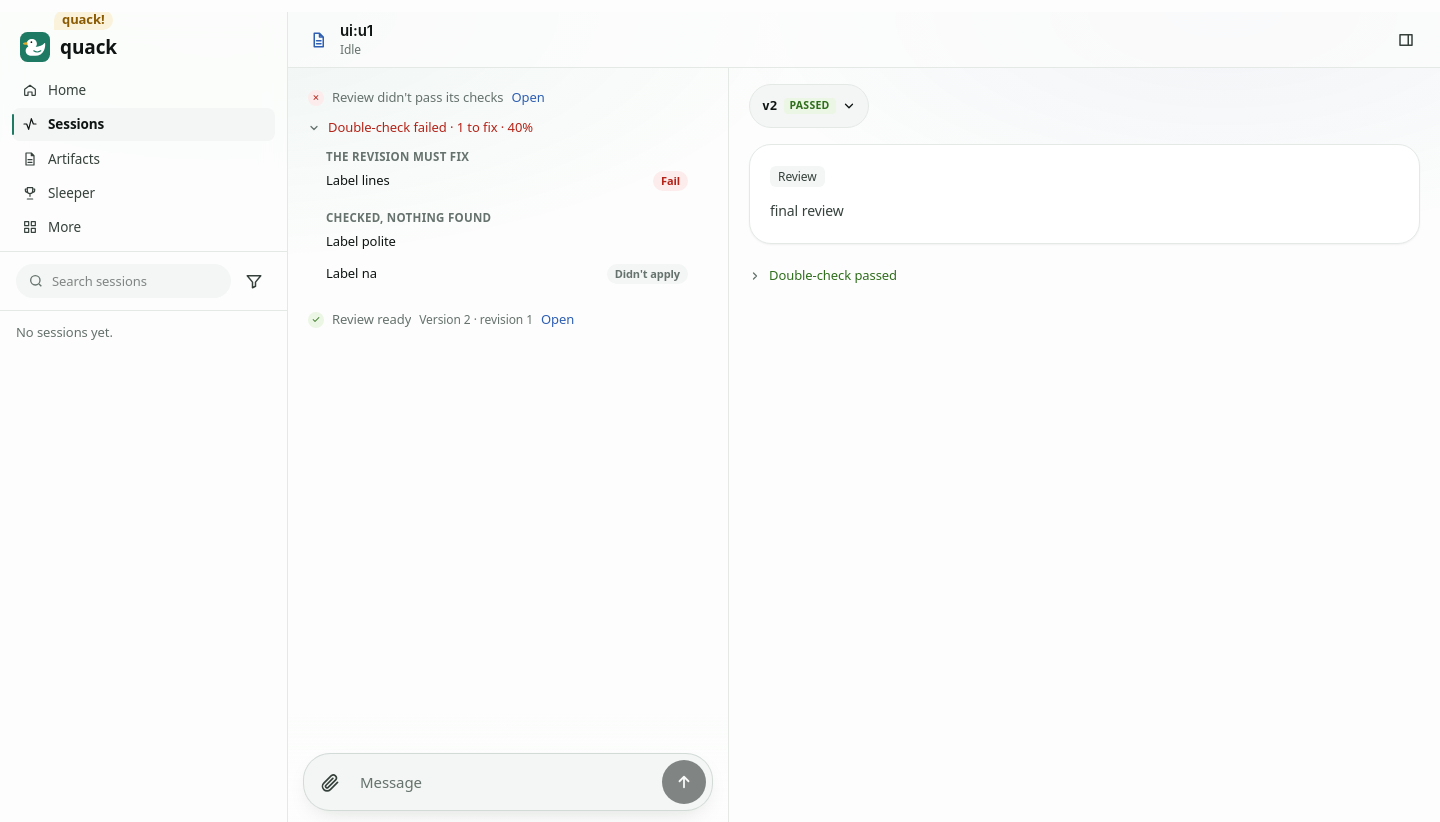
Scenario: lists artifacts with their check status and failing criteria
Check: the element that starts with "Review didn't pass its checks" is shown, box left=332, top=88, right=504, bottom=106
Check: the element showing "✓ Review ready Version 2 · revision 1 Open" is shown, box left=308, top=310, right=585, bottom=330
Click the button with aria-label "Open Review": click(534, 98) left=512, top=88, right=556, bottom=108
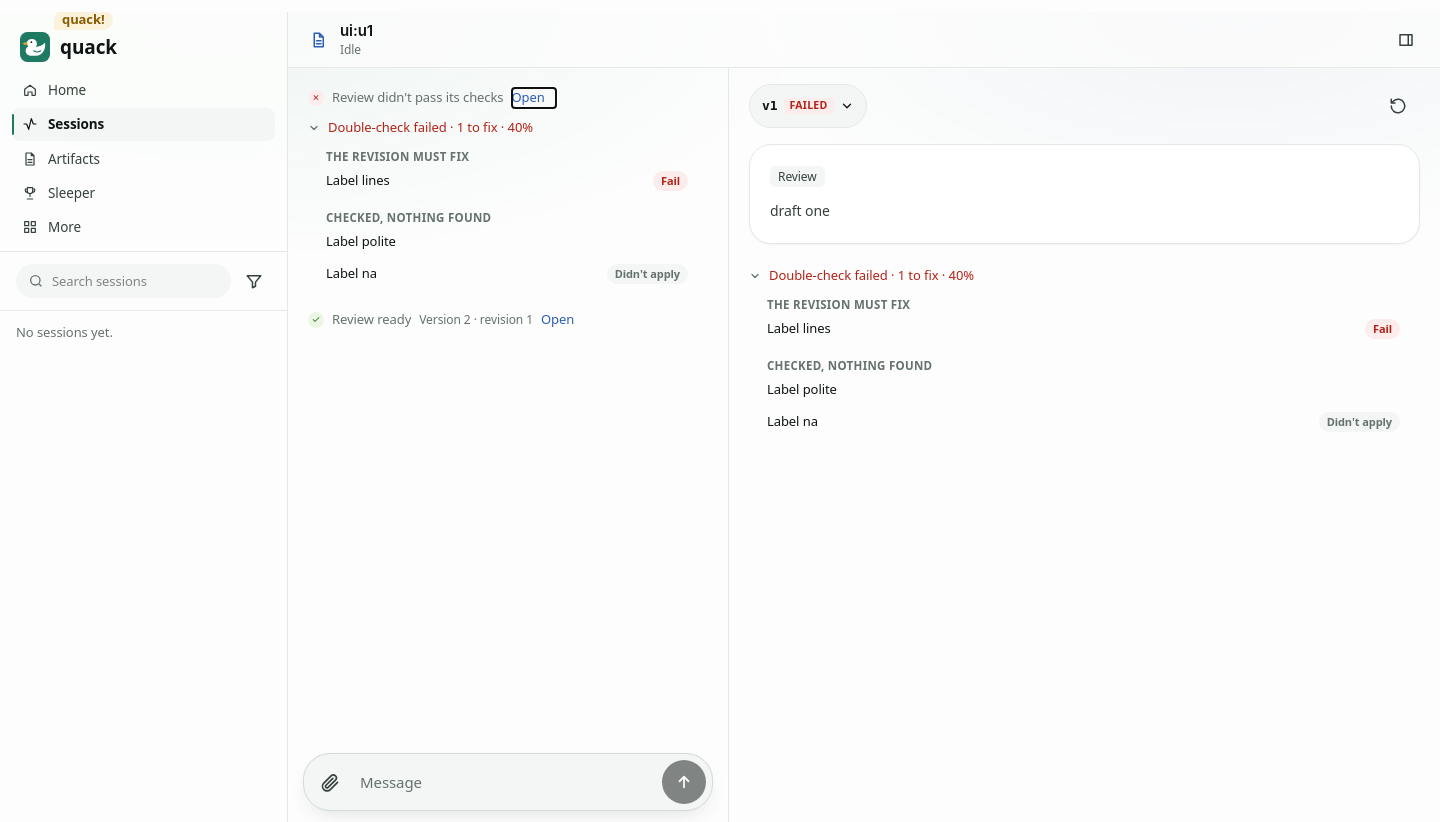
Check: the text "draft one" is shown, box left=770, top=201, right=830, bottom=220
Check: the button with aria-label "Version: Version 1, didn't pass" is shown, box left=749, top=84, right=866, bottom=128
Click the button named "Follow the newest version": click(1398, 106) left=1376, top=84, right=1420, bottom=128
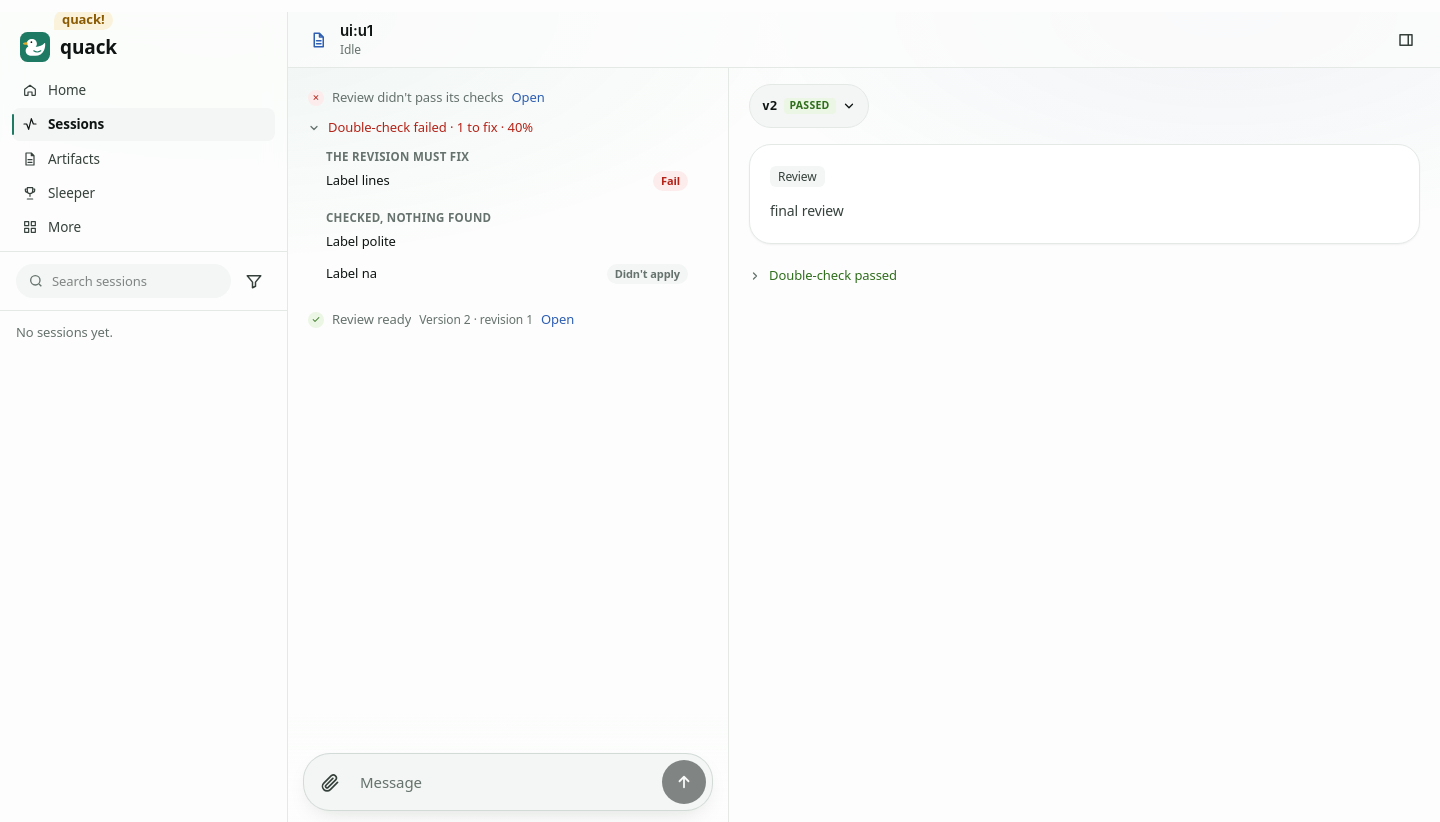
Check: the text "final review" is shown, box left=770, top=201, right=844, bottom=220
